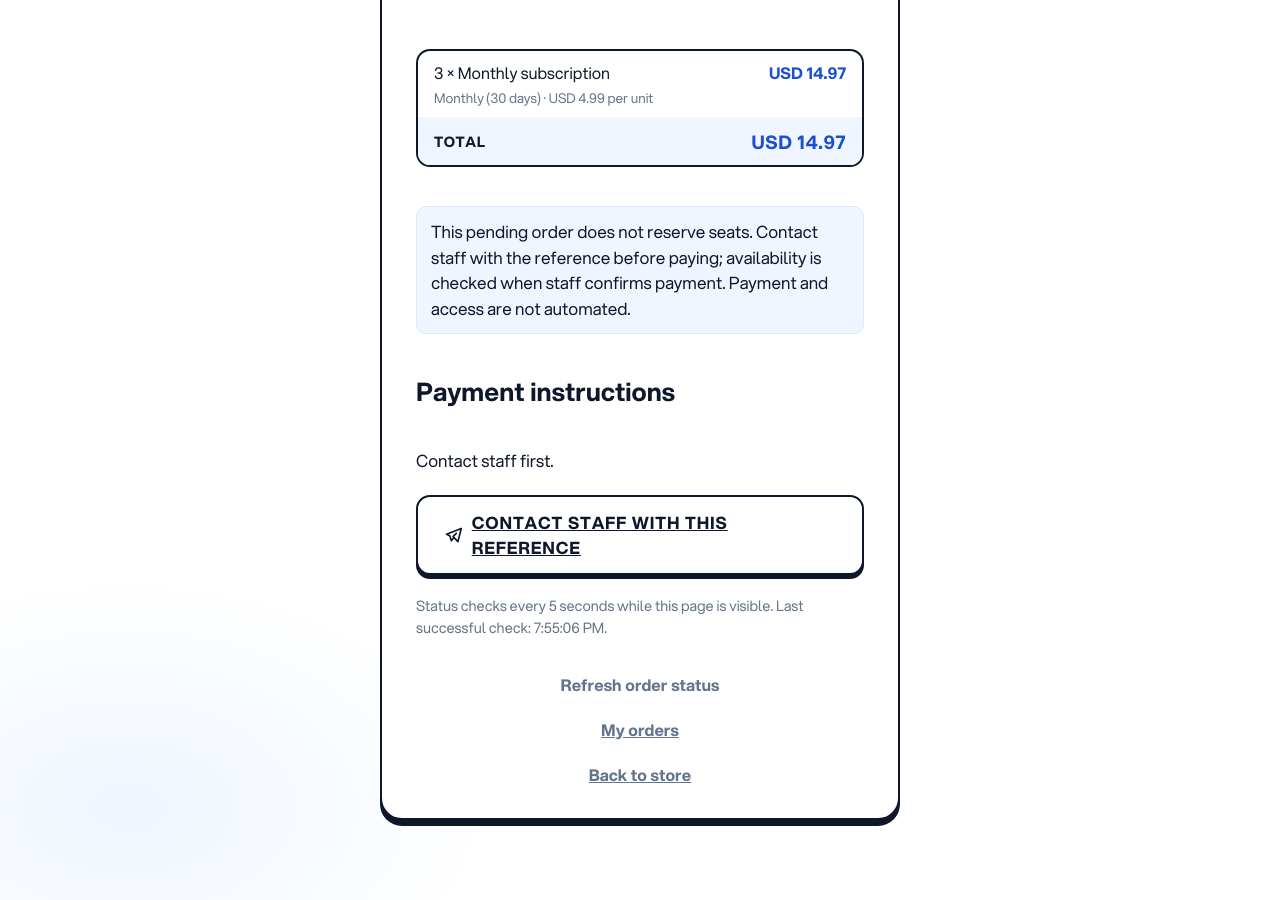
Scenario: customer order tracking through the real query hook › retains the last successful status and timestamp on refresh failure, then recovers
(page scrolled)
Click the button "Refresh order status". click: (640, 684)
box: [557, 671, 723, 698]
Wait 10 ms
(page scrolled)
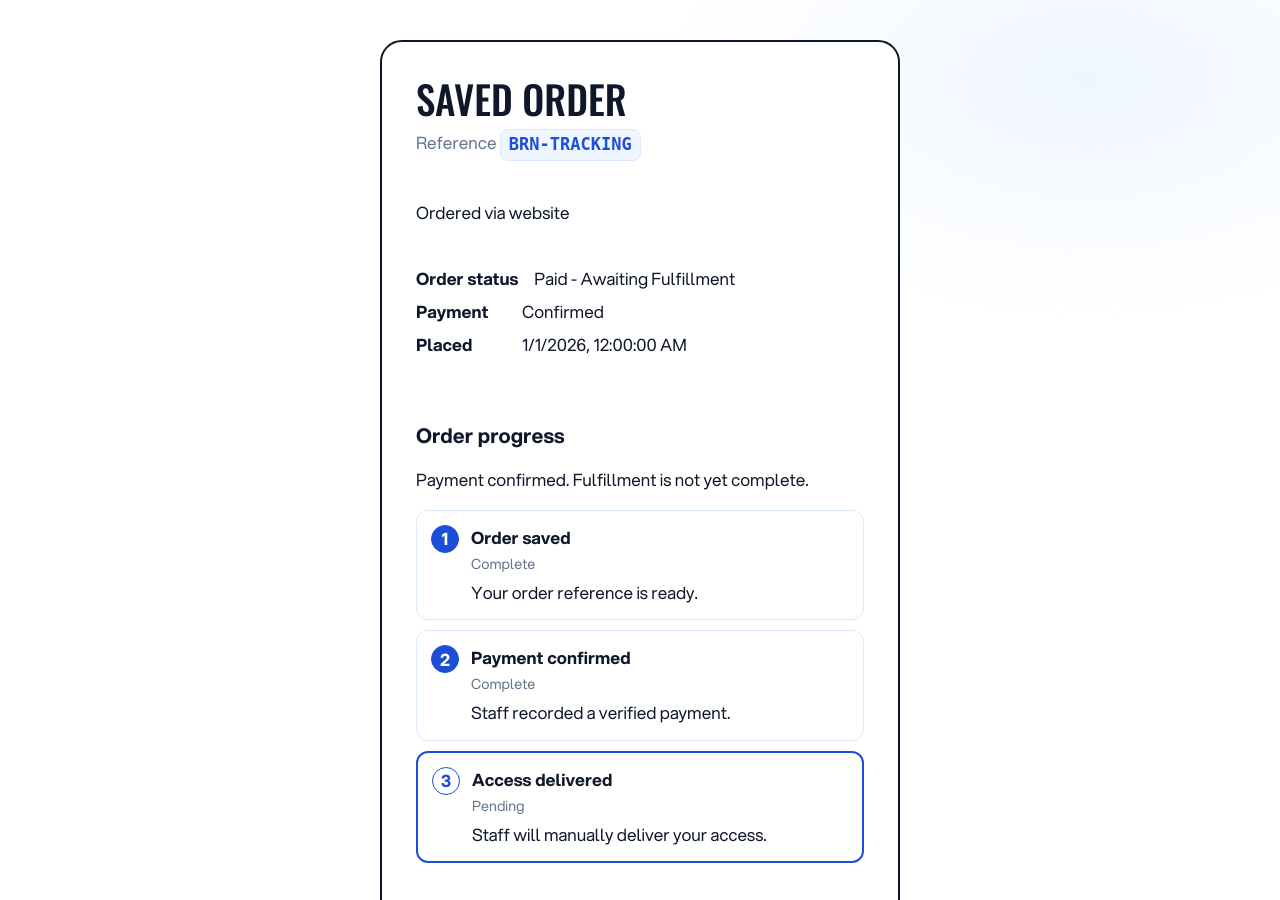
Check: the text "Paid - awaiting fulfillment" is shown, box [534, 266, 735, 290]
